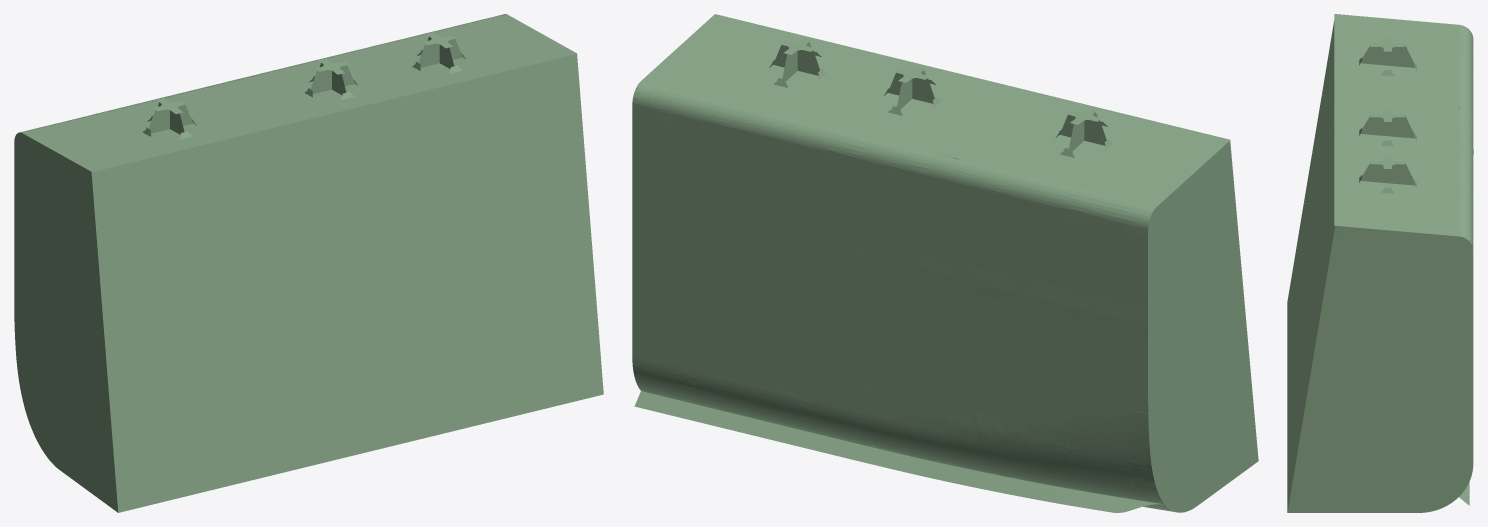
The model's file is NO_4_WING_WATER_BLT_TK_PS.glb.
The picture shows the model from 3 angles, left to right: view 1: azimuth 30°, elevation 25°; view 2: azimuth 150°, elevation 25°; view 3: azimuth 270°, elevation 25°; orthographic projection. The views are drawn at different scales.
Parts seen in each view (by area): view 1: PL_LBHDxNo5CenterTankP_017002-19.5_NVA36_1993, PL_LBHDxNo5CenterTankP_009003-19.5_NVA36_1993, PL_LBHDxNo5CenterTankP_018002-17.5_NVA32_1993, PL_LBHDxNo5CenterTankP_013003-15_NVA32_1993, PL_LBHDxNo5CenterTankP_038002-17.5_NVA36_1993, PL_LBHDxNo5CenterTankP_016002-17.5_NVA36_1993, PL_LBHDxNo5CenterTankP_010003-17.5_NVA32_1993, PL_LBHDxNo5CenterTankP_017004-19.5_NVA36_1993, PL_LBHDxNo5CenterTankP_019003-17_NVA32_1993, PL_LBHDxNo5CenterTankP_021003-15_NVA32_1993, PL_LBHDxNo5CenterTankP_017001-19.5_NVA36_1993, PL_LBHDxNo5CenterTankP_016004-17.5_NVA36_1993 (+124 smaller); view 2: PL_OuterShellxNo4SideTankP_124002-19_NVA32_1993, PL_OuterShellxNo4SideTankP_054003-19_NVA32_1993, PL_OuterShellxNo4SideTankP_124004-19_NVA32_1993, PL_OuterShellxNo4SideTankP_124001-19_NVA32_1993, PL_OuterShellxNo4SideTankP_054002-19_NVA32_1993, PL_OuterShellxNo4SideTankP_061002-20_NVD36_1993, PL_OuterShellxNo4SideTankP_103001-20_NVD36_1993, PL_OuterShellxNo4SideTankP_124003-19_NVA32_1993, PL_OuterShellxNo4SideTankP_105001-20_NVD36_1993, PL_SideTransBHDxBHD60P_001001-19.5_NVA32_1993, PL_OuterShellxNo4SideTankP_111004-19_NVA32_1993, PL_OuterShellxNo4SideTankP_125004-19_NVA32_1993 (+126 smaller); view 3: PL_SideTransBHDxBHD69P_002001-19.5_NVA32_1993, PL_SideTransBHDxBHD69P_001001-19.5_NVA32_1993, PL_SideTransBHDxBHD69P_005001-18.5_NVA32_1993, PL_SideTransBHDxBHD69P_003001-18.5_NVA32_1993, PL_SideTransBHDxBHD69P_007001-17_NVA32_1993, PL_SideTransBHDxBHD69P_013001-14.5_NVA32_1993, PL_SideTransBHDxBHD69P_017002-13.5_NVA_1993, PL_SideTransBHDxBHD69P_012001-14.5_NVA32_1993, PL_SideTransBHDxBHD69P_008001-17_NVA32_1993, PL_SideTransBHDxBHD69P_012002-14.5_NVA32_1993, PL_SideTransBHDxBHD69P_019001-13.5_NVA_1993, PL_SideTransBHDxBHD69P_011003-15.5_NVA32_1993 (+84 smaller).
Boxes of the visible parts, x1,y1,x2,y2 form: PL_LBHDxNo5CenterTankP_017002-19.5_NVA36_1993: (190,436,254,494); PL_LBHDxNo5CenterTankP_009003-19.5_NVA36_1993: (468,369,529,426); PL_LBHDxNo5CenterTankP_018002-17.5_NVA32_1993: (187,396,251,451); PL_LBHDxNo5CenterTankP_013003-15_NVA32_1993: (454,198,516,253); PL_LBHDxNo5CenterTankP_038002-17.5_NVA36_1993: (167,139,231,192); PL_LBHDxNo5CenterTankP_016002-17.5_NVA36_1993: (332,98,396,152); PL_LBHDxNo5CenterTankP_010003-17.5_NVA32_1993: (465,329,526,383); PL_LBHDxNo5CenterTankP_017004-19.5_NVA36_1993: (300,411,358,467); PL_LBHDxNo5CenterTankP_019003-17_NVA32_1993: (183,350,247,402); PL_LBHDxNo5CenterTankP_021003-15_NVA32_1993: (287,239,345,294); PL_LBHDxNo5CenterTankP_017001-19.5_NVA36_1993: (137,452,193,507); PL_LBHDxNo5CenterTankP_016004-17.5_NVA36_1993: (444,72,506,124); PL_OuterShellxNo4SideTankP_124002-19_NVA32_1993: (1002,292,1067,351); PL_OuterShellxNo4SideTankP_054003-19_NVA32_1993: (710,221,772,279); PL_OuterShellxNo4SideTankP_124004-19_NVA32_1993: (892,265,950,322); PL_OuterShellxNo4SideTankP_124001-19_NVA32_1993: (1068,308,1124,365); PL_OuterShellxNo4SideTankP_054002-19_NVA32_1993: (773,236,827,292); PL_OuterShellxNo4SideTankP_061002-20_NVD36_1993: (710,100,780,149); PL_OuterShellxNo4SideTankP_103001-20_NVD36_1993: (1002,172,1072,220); PL_OuterShellxNo4SideTankP_124003-19_NVA32_1993: (950,280,1002,335); PL_OuterShellxNo4SideTankP_105001-20_NVD36_1993: (1068,187,1132,235); PL_SideTransBHDxBHD60P_001001-19.5_NVA32_1993: (1210,420,1258,495); PL_OuterShellxNo4SideTankP_111004-19_NVA32_1993: (1002,345,1067,394); PL_OuterShellxNo4SideTankP_125004-19_NVA32_1993: (1002,217,1067,263); PL_SideTransBHDxBHD69P_002001-19.5_NVA32_1993: (1380,476,1471,512); PL_SideTransBHDxBHD69P_001001-19.5_NVA32_1993: (1287,476,1367,512); PL_SideTransBHDxBHD69P_005001-18.5_NVA32_1993: (1380,442,1455,476); PL_SideTransBHDxBHD69P_003001-18.5_NVA32_1993: (1293,442,1367,476); PL_SideTransBHDxBHD69P_007001-17_NVA32_1993: (1300,403,1367,435); PL_SideTransBHDxBHD69P_013001-14.5_NVA32_1993: (1416,333,1473,367); PL_SideTransBHDxBHD69P_017002-13.5_NVA_1993: (1397,270,1473,295); PL_SideTransBHDxBHD69P_012001-14.5_NVA32_1993: (1312,333,1367,367); PL_SideTransBHDxBHD69P_008001-17_NVA32_1993: (1416,403,1473,435); PL_SideTransBHDxBHD69P_012002-14.5_NVA32_1993: (1368,333,1416,367); PL_SideTransBHDxBHD69P_019001-13.5_NVA_1993: (1397,231,1460,259); PL_SideTransBHDxBHD69P_011003-15.5_NVA32_1993: (1306,377,1367,403).
Bounding box in the file's own units: 47.16 × 31.51 × 17.51.
